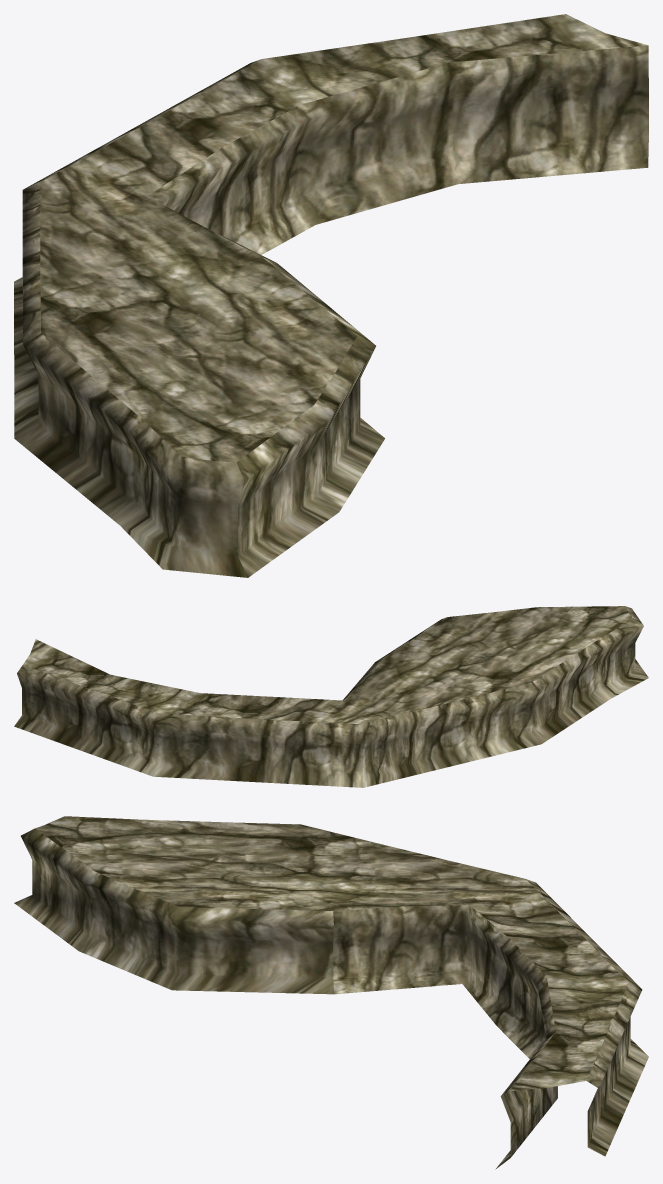
The model's file is CB_NEWPLAYSURFACE_CB_PLAYSURFACE124.fbx.
The picture shows the model from 3 angles, top to bottom: view 1: azimuth 30°, elevation 25°; view 2: azimuth 150°, elevation 25°; view 3: azimuth 270°, elevation 25°; orthographic projection. The views are drawn at different scales.
Visible parts, largest first — view 1: CB_NEWPLAYSURFACE_CB_PLAYSURFACE124; view 2: CB_NEWPLAYSURFACE_CB_PLAYSURFACE124; view 3: CB_NEWPLAYSURFACE_CB_PLAYSURFACE124.
Boxes of the visible parts, bbox=[...] form: CB_NEWPLAYSURFACE_CB_PLAYSURFACE124: bbox=[14, 14, 648, 577]; CB_NEWPLAYSURFACE_CB_PLAYSURFACE124: bbox=[14, 606, 648, 787]; CB_NEWPLAYSURFACE_CB_PLAYSURFACE124: bbox=[14, 816, 648, 1169].
Size of the model in its own units: 219801 by 30049 by 208253.
2 materials, 2 textured.
